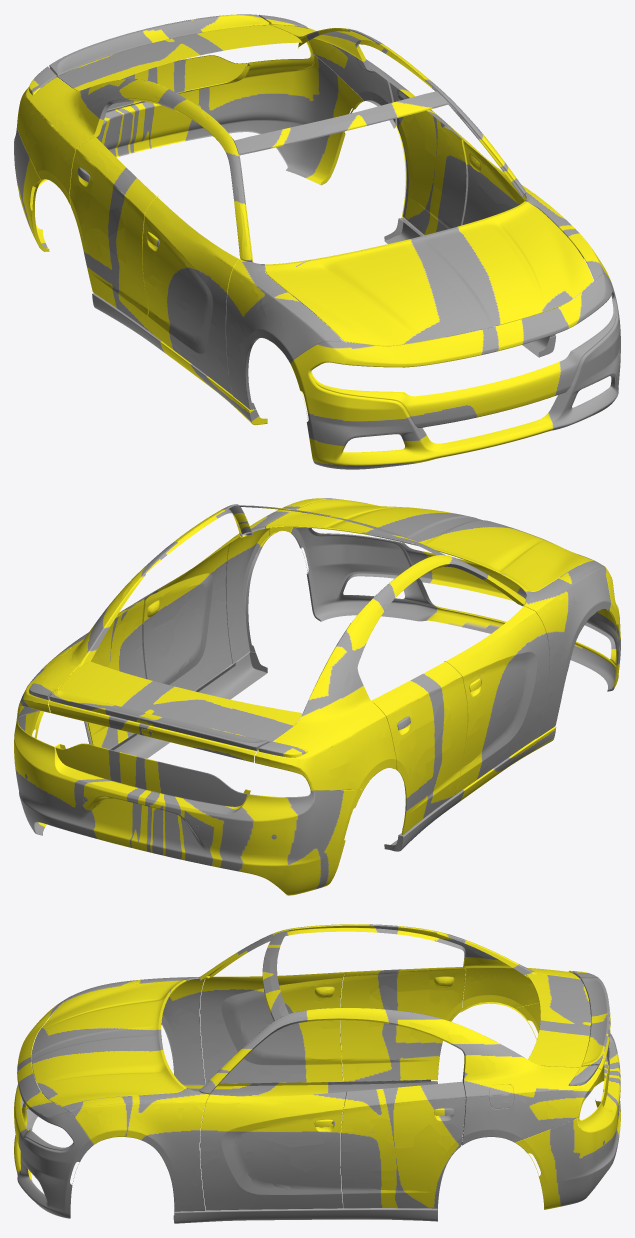
File: charger_paint.fbx
The picture shows the model from 3 angles, top to bottom: view 1: azimuth 30°, elevation 25°; view 2: azimuth 150°, elevation 25°; view 3: azimuth 270°, elevation 25°; orthographic projection. The views are drawn at different scales.
Parts seen in each view (by area): view 1: Body.Main, Body.Hood, Body.FrontBumper, Body.RearBumper, Body.Trunk, Body.Roof, Body.RSkirt, Body.LSkirt; view 2: Body.Main, Body.RearBumper, Body.Trunk, Body.FrontBumper, Body.Hood, Body.LSkirt, Body.RSkirt, Body.Roof; view 3: Body.Main, Body.Hood, Body.RearBumper, Body.FrontBumper, Body.Trunk, Body.LSkirt, Body.RSkirt, Body.Roof.
Part boxes in pixels (x1,y1,x2,y2): Body.Main: (17, 24, 610, 409); Body.Hood: (265, 201, 593, 346); Body.FrontBumper: (290, 273, 620, 469); Body.RearBumper: (14, 54, 363, 251); Body.Trunk: (49, 14, 302, 110); Body.Roof: (29, 14, 448, 155); Body.RSkirt: (92, 293, 267, 425); Body.LSkirt: (384, 217, 555, 357); Body.Main: (17, 498, 611, 834); Body.RearBumper: (14, 710, 363, 895); Body.Trunk: (49, 661, 302, 806); Body.FrontBumper: (291, 500, 620, 691); Body.Hood: (265, 499, 593, 591); Body.LSkirt: (110, 652, 267, 758); Body.RSkirt: (384, 726, 556, 851); Body.Roof: (29, 505, 445, 757); Body.Main: (62, 924, 601, 1211); Body.Hood: (31, 980, 186, 1106); Body.RearBumper: (515, 1003, 620, 1209); Body.FrontBumper: (14, 998, 93, 1218); Body.Trunk: (526, 974, 610, 1106); Body.LSkirt: (173, 1204, 437, 1223); Body.RSkirt: (184, 1079, 437, 1106); Body.Roof: (262, 929, 598, 1085).
Size of the model in its own units: 0.7581 by 0.5132 by 1.43.
